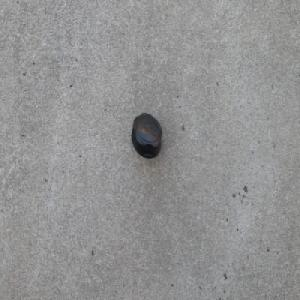FuelCap: (130, 112, 162, 159)
